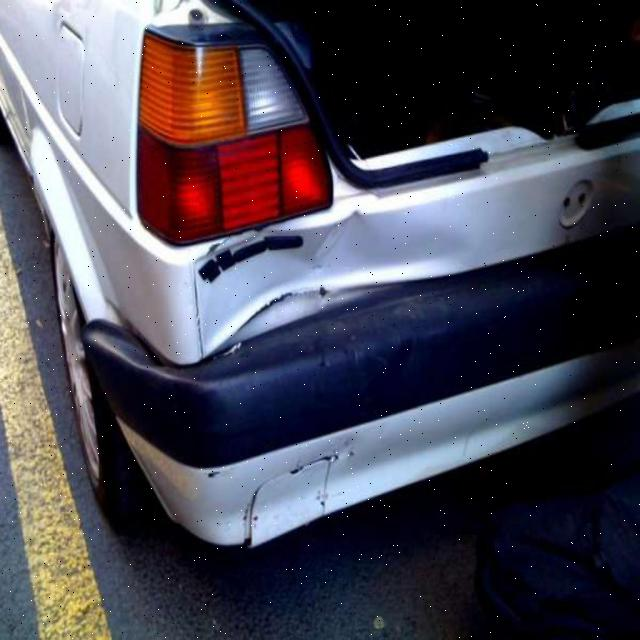damage: (189, 209, 448, 358), (237, 452, 341, 545)
